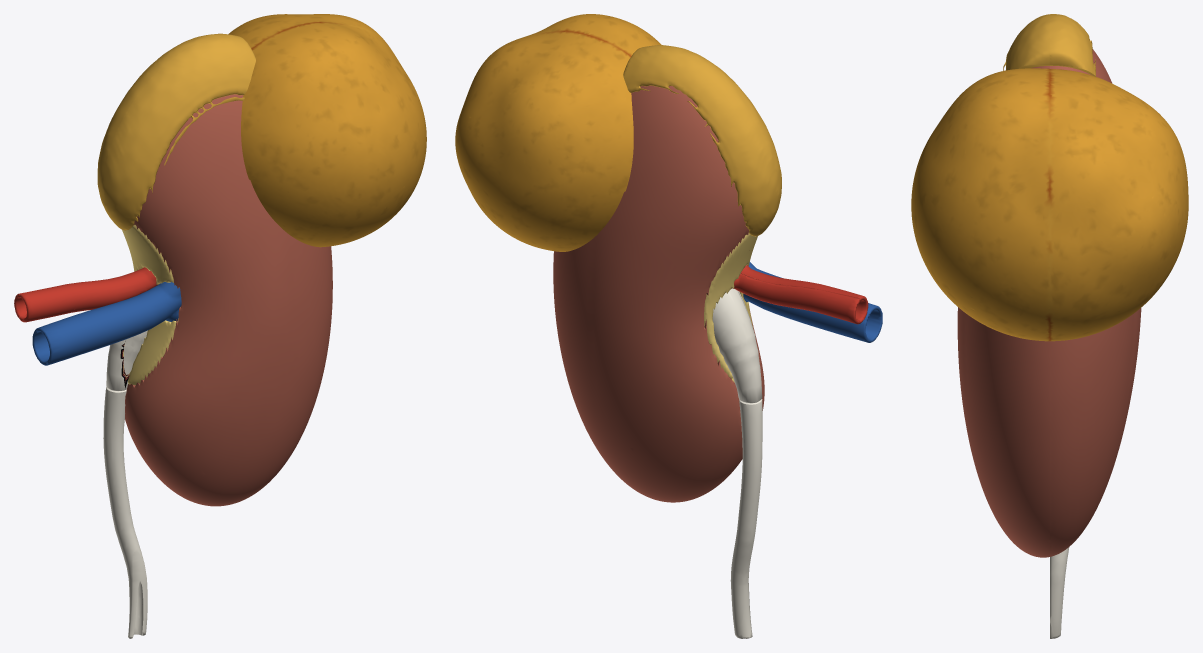
Rendered from kidney_t1b_coronal.glb.
3 renders of one model, left to right at view 1: azimuth 30°, elevation 25°; view 2: azimuth 150°, elevation 25°; view 3: azimuth 270°, elevation 25°, orthographic. The views are drawn at different scales.
Parts seen in each view (by area): view 1: anterior_half, ureter, adrenal_gland, tumor, renal_pelvis; view 2: renal_cortex, tumor, adrenal_gland, anterior_half, ureter, renal_pelvis, renal_artery, renal_sinus; view 3: anterior_half, tumor, renal_cortex, adrenal_gland, ureter.
Boxes of the visible parts, <box> form: anterior_half: <box>19,22,426,506</box>; ureter: <box>103,387,147,638</box>; adrenal_gland: <box>97,33,243,227</box>; tumor: <box>228,14,385,48</box>; renal_pelvis: <box>106,339,129,391</box>; renal_cortex: <box>553,85,749,502</box>; tumor: <box>455,31,633,251</box>; adrenal_gland: <box>623,46,778,236</box>; anterior_half: <box>527,14,882,493</box>; ureter: <box>730,399,762,638</box>; renal_pelvis: <box>712,288,762,403</box>; renal_artery: <box>732,273,860,324</box>; renal_sinus: <box>704,233,754,382</box>; anterior_half: <box>911,14,1049,557</box>; tumor: <box>1050,69,1188,341</box>; renal_cortex: <box>1050,49,1141,556</box>; adrenal_gland: <box>1050,14,1095,76</box>; ureter: <box>1050,547,1069,638</box>.
Size of the model in its own units: 10.03 by 14.23 by 5.5.
1 material, 1 textured.
